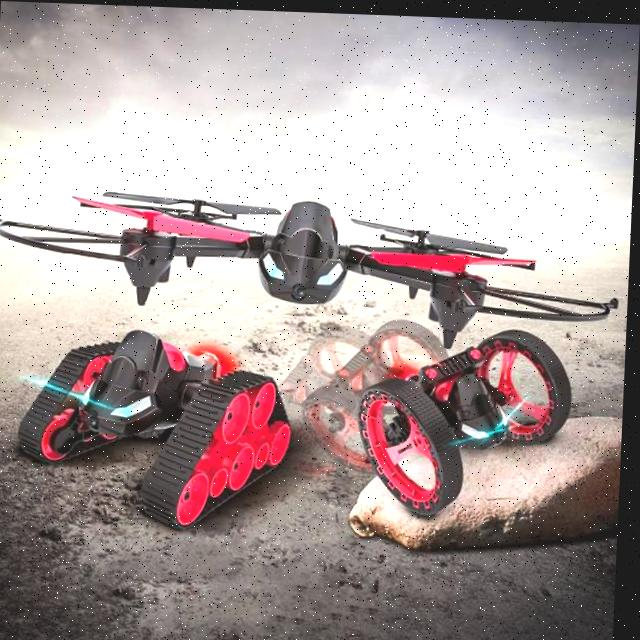drone: (9, 164, 626, 351)
